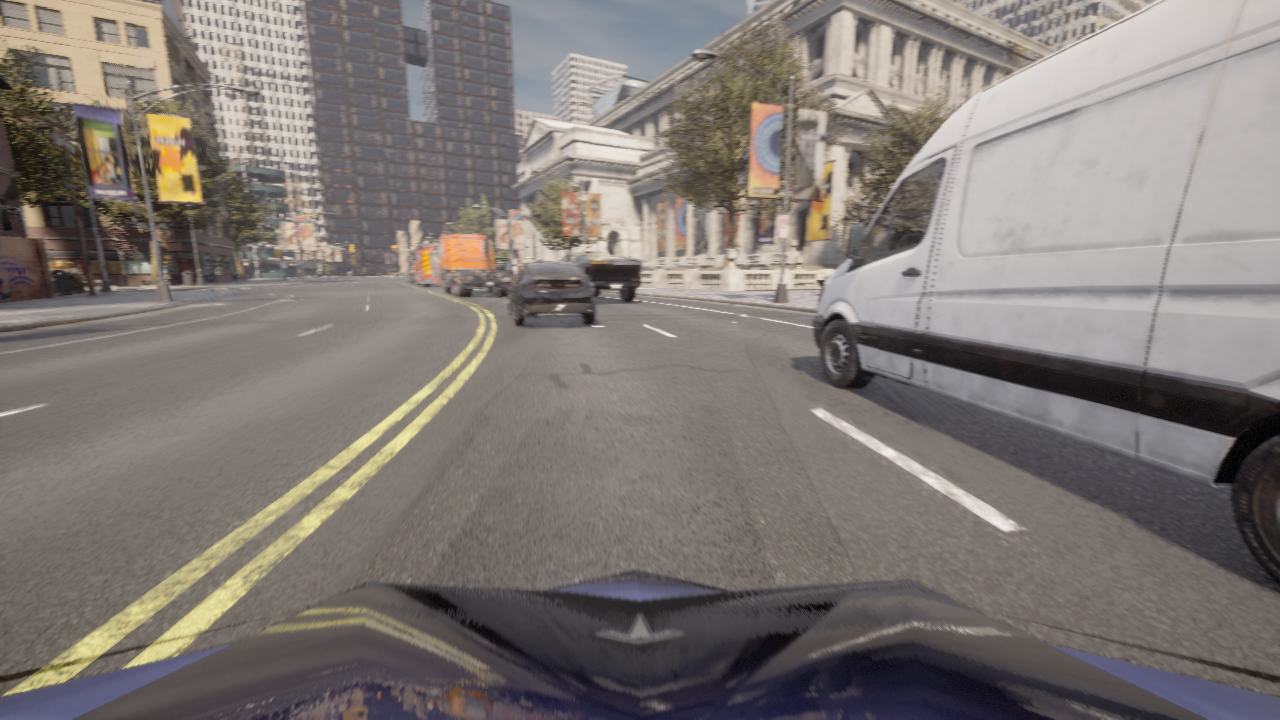cyclist: (813, 0, 1279, 584), (0, 569, 1279, 719), (501, 260, 595, 326), (434, 233, 514, 297), (559, 252, 641, 302), (410, 240, 440, 287), (410, 271, 415, 283), (407, 265, 413, 275), (406, 272, 409, 282), (387, 275, 392, 280)
